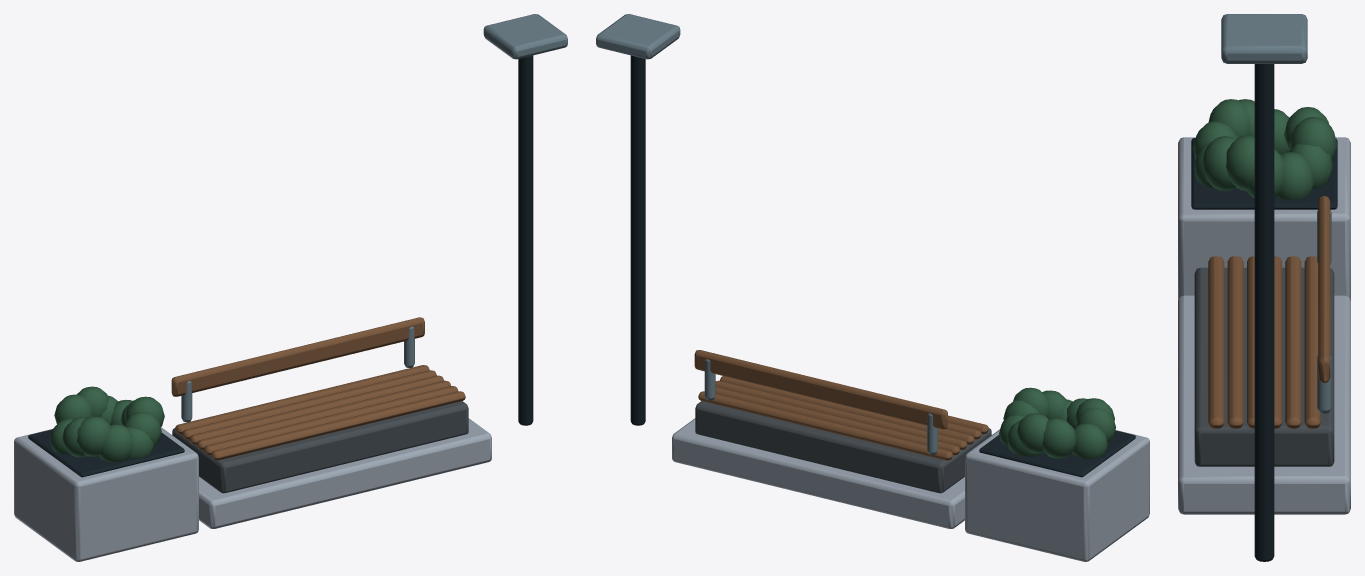
File: avenue_furniture.glb
3 views of the same model, side by side, from view 1: azimuth 30°, elevation 25°; view 2: azimuth 150°, elevation 25°; view 3: azimuth 270°, elevation 25° (orthographic). The views are drawn at different scales.
Parts seen in each view (by area): view 1: Detail.avenue_furniture.Stone, Detail.avenue_furniture.Wood, Detail.avenue_furniture.Concrete, Detail.avenue_furniture.Dark, Detail.avenue_furniture.Leaf, Detail.avenue_furniture.Metal; view 2: Detail.avenue_furniture.Stone, Detail.avenue_furniture.Wood, Detail.avenue_furniture.Concrete, Detail.avenue_furniture.Dark, Detail.avenue_furniture.Leaf, Detail.avenue_furniture.Metal; view 3: Detail.avenue_furniture.Stone, Detail.avenue_furniture.Wood, Detail.avenue_furniture.Dark, Detail.avenue_furniture.Concrete, Detail.avenue_furniture.Leaf, Detail.avenue_furniture.Metal.
Part boxes in pixels (bbox=[...]): Detail.avenue_furniture.Stone: bbox=[14, 418, 491, 561]; Detail.avenue_furniture.Wood: bbox=[171, 317, 465, 460]; Detail.avenue_furniture.Concrete: bbox=[172, 401, 468, 493]; Detail.avenue_furniture.Dark: bbox=[28, 55, 533, 477]; Detail.avenue_furniture.Leaf: bbox=[49, 386, 164, 462]; Detail.avenue_furniture.Metal: bbox=[181, 14, 567, 422]; Detail.avenue_furniture.Stone: bbox=[672, 418, 1149, 561]; Detail.avenue_furniture.Wood: bbox=[694, 350, 988, 460]; Detail.avenue_furniture.Concrete: bbox=[695, 401, 991, 493]; Detail.avenue_furniture.Dark: bbox=[630, 55, 1135, 477]; Detail.avenue_furniture.Leaf: bbox=[999, 387, 1115, 458]; Detail.avenue_furniture.Metal: bbox=[596, 14, 937, 454]; Detail.avenue_furniture.Stone: bbox=[1178, 137, 1350, 514]; Detail.avenue_furniture.Wood: bbox=[1208, 195, 1330, 428]; Detail.avenue_furniture.Dark: bbox=[1191, 64, 1337, 561]; Detail.avenue_furniture.Concrete: bbox=[1194, 267, 1334, 466]; Detail.avenue_furniture.Leaf: bbox=[1193, 99, 1337, 200]; Detail.avenue_furniture.Metal: bbox=[1221, 14, 1331, 413].
Bounding box in the file's own units: 5.95 × 4.39 × 1.3.
